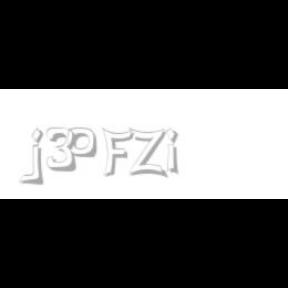3: (46, 128, 78, 172)
F: (101, 128, 133, 178)
Z: (128, 128, 165, 178)
i: (166, 128, 182, 176)
j: (28, 128, 58, 186)
o: (68, 128, 96, 158)
